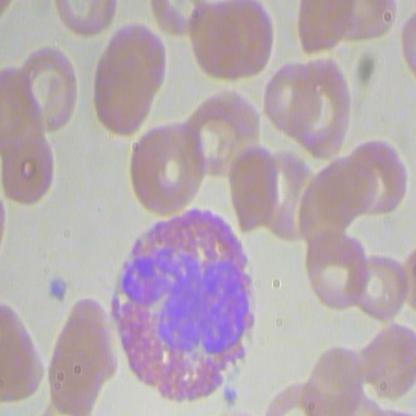Platelets: (48, 271, 71, 305)
RBC: (288, 56, 356, 165), (14, 40, 89, 136), (125, 119, 199, 215), (87, 42, 161, 138), (298, 232, 368, 318), (260, 50, 322, 146)
WBC: (103, 198, 262, 406)
